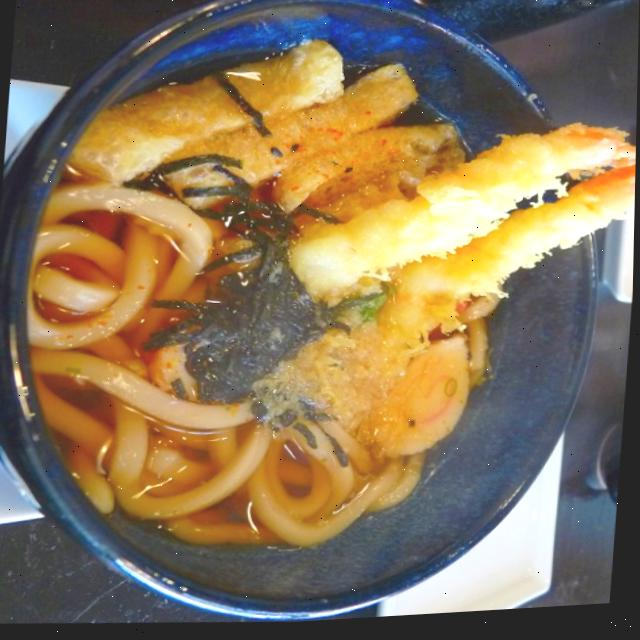面条主食: (0, 143, 637, 605)
